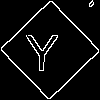Y: (25, 25, 59, 72)
